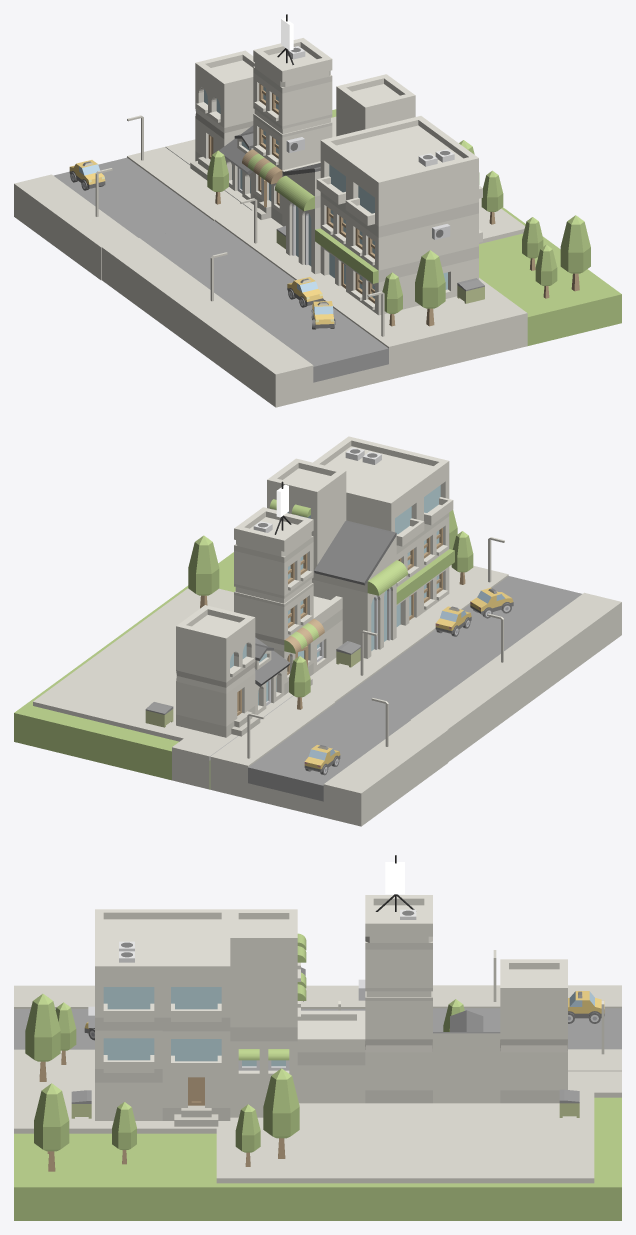
Rendered from doppler-effect.glb.
3 renders of one model, top to bottom at view 1: azimuth 30°, elevation 25°; view 2: azimuth 150°, elevation 25°; view 3: azimuth 270°, elevation 25°, orthographic. The views are drawn at different scales.
Visible parts, largest first — view 1: Group3, Group58, Group2, Group1, Group18, Group41, Group23, Group35, Group51, Group42, Group15, Group121 (+40 smaller); view 2: Group58, Group57, Group1, Group3, Group4, Group124, Group38, Group121, Group41, Group122, Group35, Group42 (+33 smaller); view 3: Group57, Group4, Group2, Group58, Group3, Group55, Group124, Group157, Group37, Group60, Group36, Group21 (+39 smaller).
Boxes of the visible parts, x1,y1,x2,y2 form: Group3: (188,276,426,407); Group58: (14,147,251,280); Group2: (394,233,621,370); Group1: (101,210,330,343); Group18: (345,173,428,226); Group41: (253,73,332,126); Group23: (349,217,428,270); Group35: (336,74,415,118); Group51: (253,38,332,82); Group42: (253,117,332,170); Group15: (349,155,428,193); Group121: (195,74,254,127); Group58: (210,695,448,826); Group57: (14,646,293,789); Group1: (307,632,534,761); Group3: (396,565,621,698); Group4: (101,585,336,680); Group124: (176,673,260,737); Group38: (314,520,396,585); Group121: (176,629,255,682); Group41: (234,542,313,595); Group122: (176,605,255,649); Group35: (267,458,346,502); Group42: (234,586,313,639); Group57: (419,1071,621,1220); Group4: (216,1103,419,1220); Group2: (14,1071,216,1220); Group58: (433,985,621,1071); Group3: (14,985,94,1071); Group55: (365,1052,432,1103); Group124: (500,1052,567,1103); Group157: (162,1069,230,1126); Group37: (230,933,306,989); Group60: (433,1010,500,1065); Group36: (230,972,306,1027); Group21: (297,1010,365,1052).
Size of the model in its own units: 6.9 by 4.38 by 9.
